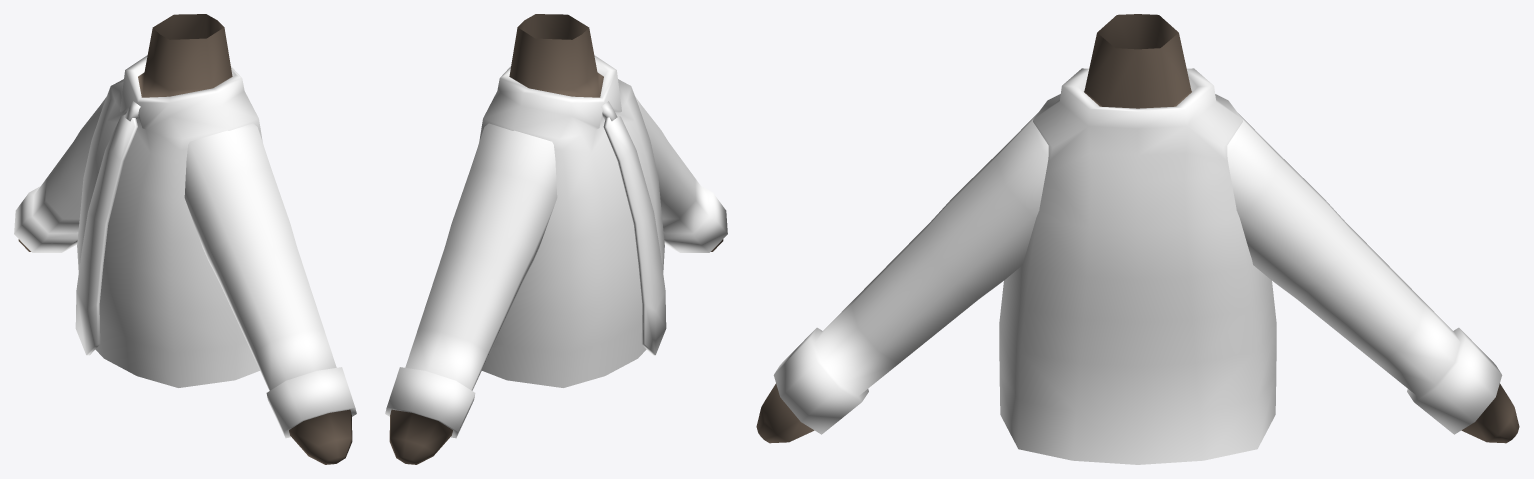
File: dress_shirt.fbx
3 views of the same model, side by side, from view 1: azimuth 30°, elevation 25°; view 2: azimuth 150°, elevation 25°; view 3: azimuth 270°, elevation 25° (orthographic). The views are drawn at different scales.
Parts seen in each view (by area): view 1: Cube.003; view 2: Cube.003; view 3: Cube.003.
Boxes of the visible parts, x1,y1,x2,y2 form: Cube.003: (14,14,356,464); Cube.003: (385,14,727,464); Cube.003: (756,14,1519,464).
Bounding box in the file's own units: 117 × 209 × 351.
